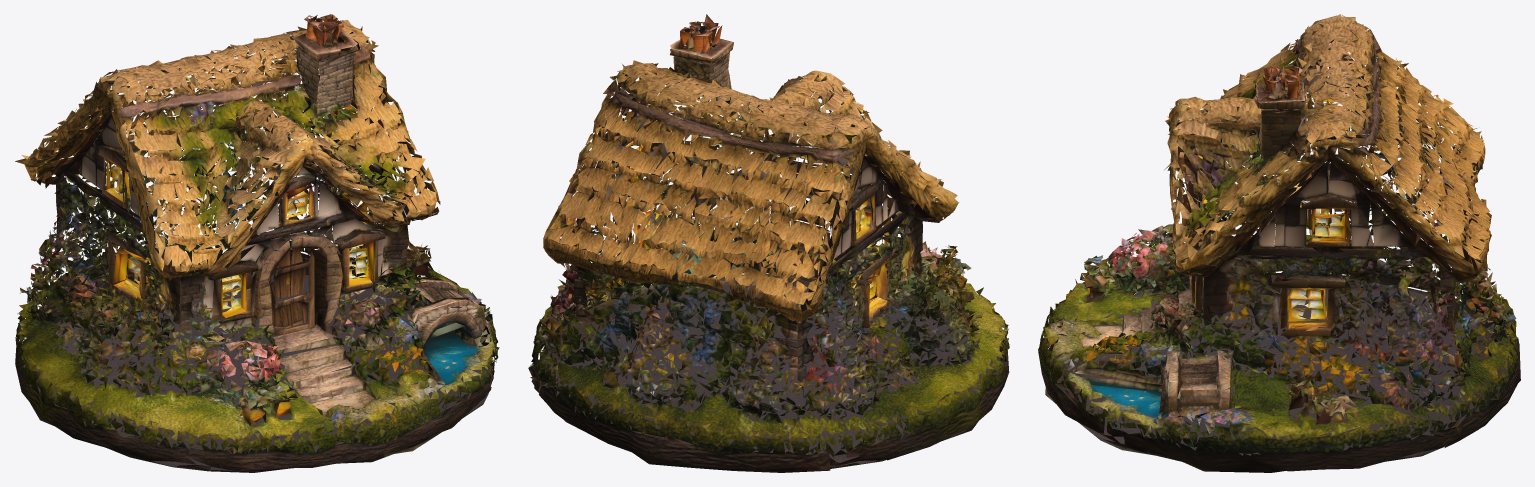
Rendered from Enchanted_Thatch_Cott_town.glb.
3 renders of one model, left to right at view 1: azimuth 30°, elevation 25°; view 2: azimuth 150°, elevation 25°; view 3: azimuth 270°, elevation 25°, orthographic.
Parts seen in each view (by area): view 1: Enchanted_Thatch_Cott; view 2: Enchanted_Thatch_Cott; view 3: Enchanted_Thatch_Cott.
Part boxes in pixels (bbox=[...]): Enchanted_Thatch_Cott: bbox=[15, 14, 499, 472]; Enchanted_Thatch_Cott: bbox=[528, 14, 1009, 472]; Enchanted_Thatch_Cott: bbox=[1038, 14, 1520, 472].
Bounding box in the file's own units: 1.9 × 1.49 × 1.89.
Materials: 1 (1 with a texture image).
